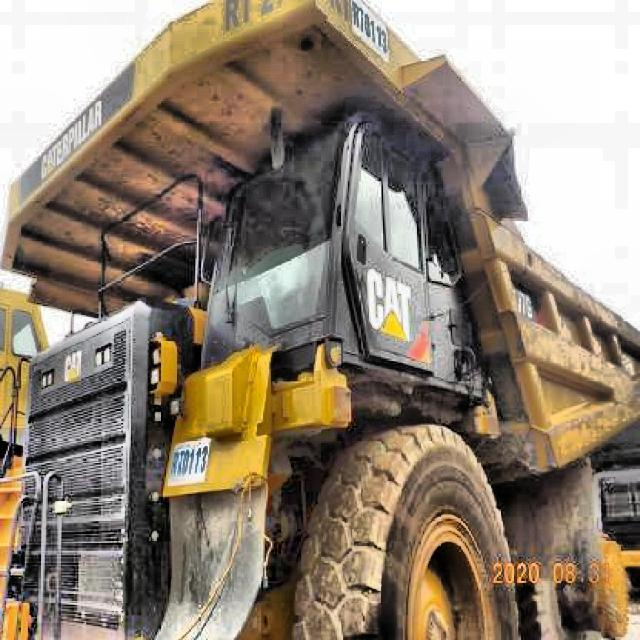dump_truck: (13, 6, 632, 634)
